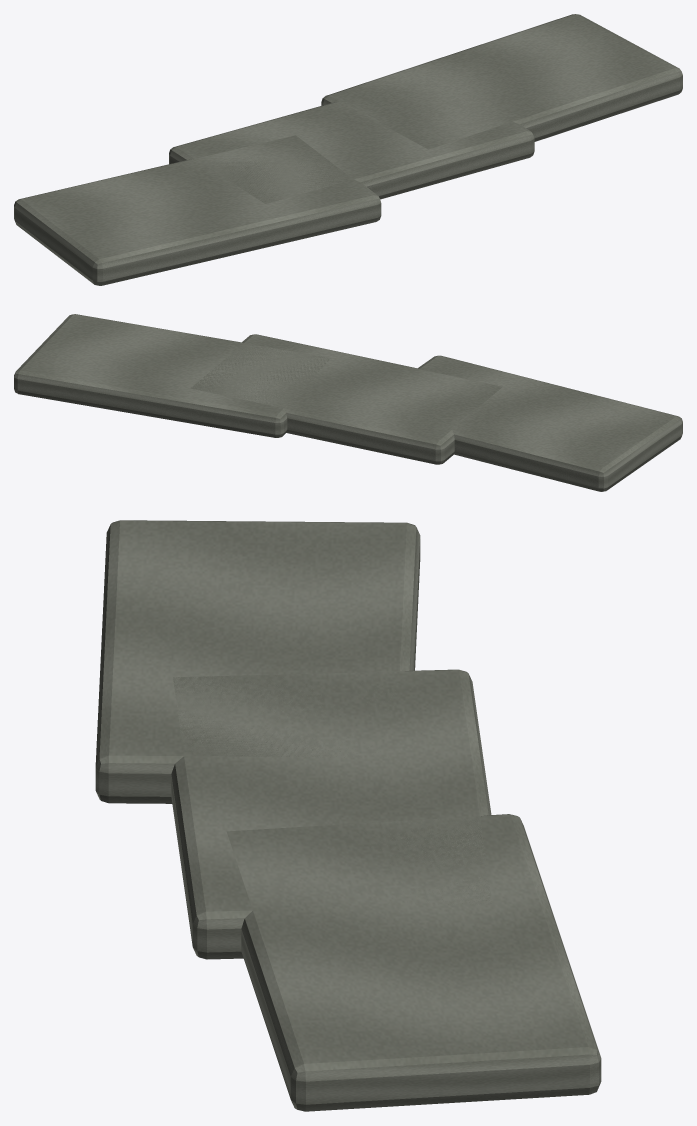
File: library-path.glb
The picture shows the model from 3 angles, top to bottom: view 1: azimuth 30°, elevation 25°; view 2: azimuth 150°, elevation 25°; view 3: azimuth 270°, elevation 25°; orthographic projection. The views are drawn at different scales.
Visible parts, largest first — view 1: Library garden path paver.002, Library garden path paver, Library garden path paver.001; view 2: Library garden path paver, Library garden path paver.001, Library garden path paver.002; view 3: Library garden path paver, Library garden path paver.002, Library garden path paver.001.
Boxes of the visible parts, bbox=[...] form: Library garden path paver.002: bbox=[14, 135, 381, 285]; Library garden path paver: bbox=[321, 14, 682, 149]; Library garden path paver.001: bbox=[169, 81, 534, 203]; Library garden path paver: bbox=[14, 314, 331, 437]; Library garden path paver.001: bbox=[190, 334, 502, 464]; Library garden path paver.002: bbox=[418, 355, 682, 491]; Library garden path paver: bbox=[226, 814, 601, 1111]; Library garden path paver.002: bbox=[95, 520, 420, 803]; Library garden path paver.001: bbox=[171, 669, 491, 959].
Size of the model in its own units: 1.76 by 0.07 by 0.6773.
1 material, 1 textured.
